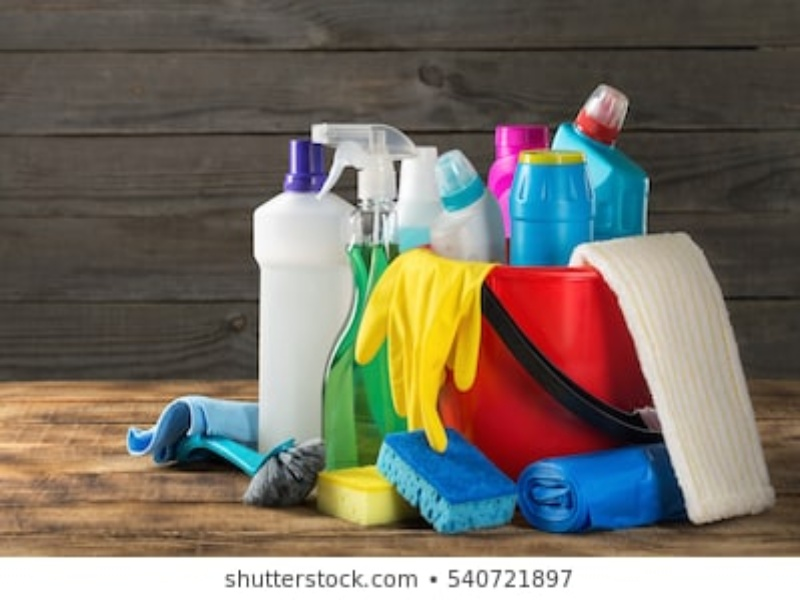detergent-bottle: (309, 119, 403, 470), (249, 138, 350, 451), (550, 79, 668, 239), (504, 149, 599, 269), (435, 154, 505, 267), (485, 118, 548, 233), (394, 143, 437, 249)
plastic-bag: (517, 446, 686, 543)
